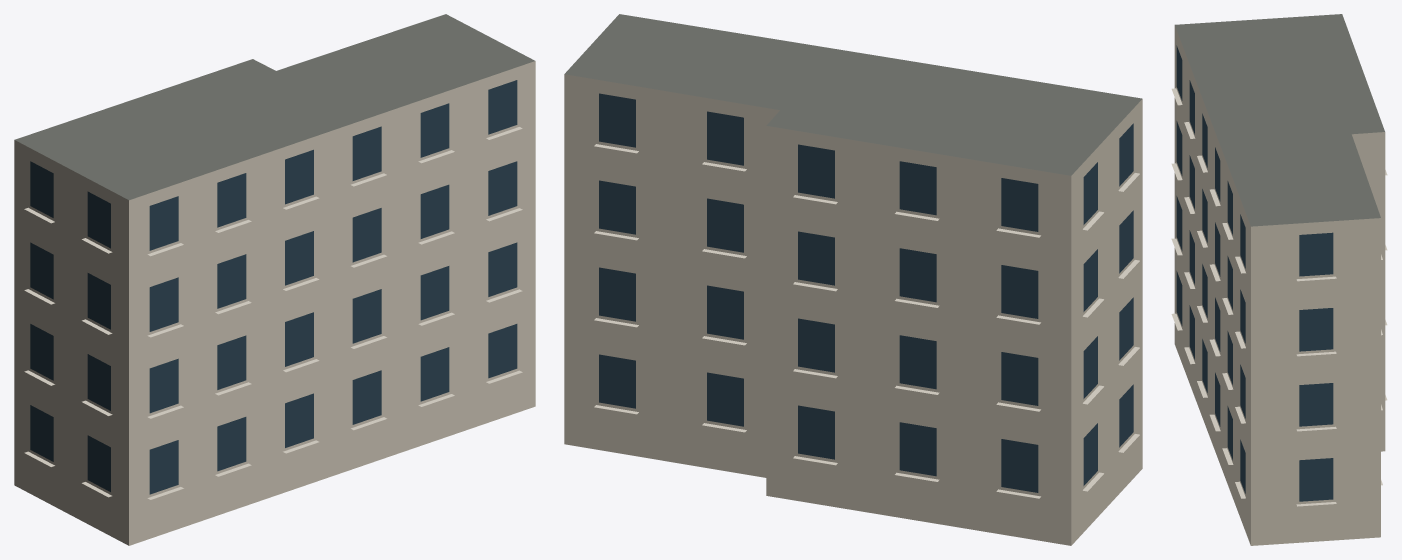
The picture shows the model from 3 angles, left to right: view 1: azimuth 30°, elevation 25°; view 2: azimuth 150°, elevation 25°; view 3: azimuth 270°, elevation 25°; orthographic projection. The views are drawn at different scales.
Visible parts, largest first — view 1: Footprint 0, Inferred window bays, Window sills; view 2: Footprint 0, Inferred window bays, Window sills; view 3: Footprint 0, Inferred window bays, Window sills.
Boxes of the visible parts, <box> form: Footprint 0: <box>14,14,535,545</box>; Inferred window bays: <box>30,80,517,494</box>; Window sills: <box>24,127,522,499</box>; Footprint 0: <box>564,14,1142,545</box>; Inferred window bays: <box>599,93,1133,492</box>; Window sills: <box>594,144,1139,498</box>; Footprint 0: <box>1174,14,1385,545</box>; Inferred window bays: <box>1176,45,1333,501</box>; Window sills: <box>1171,88,1387,506</box>.
Size of the model in its own units: 18.22 by 12.69 by 7.78.
